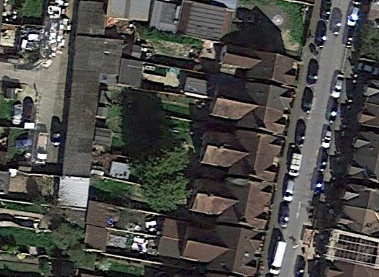tree: (131, 139, 194, 214)
